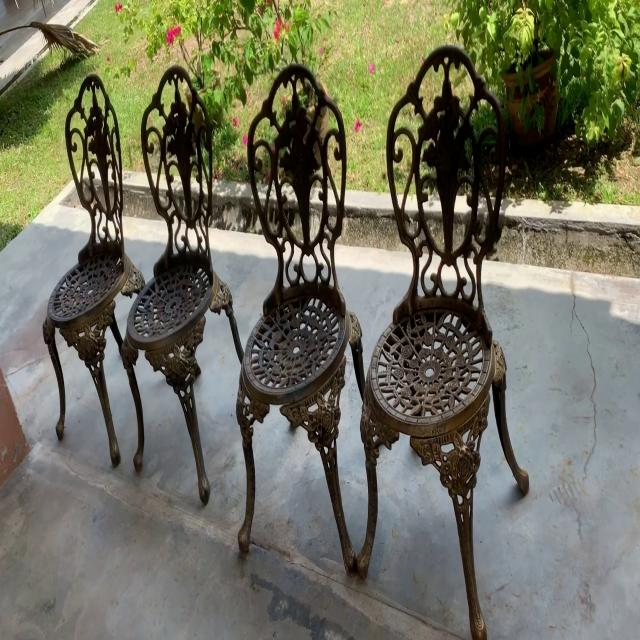Chair: (357, 46, 532, 640), (232, 61, 364, 583), (122, 53, 253, 515), (40, 71, 136, 483)
